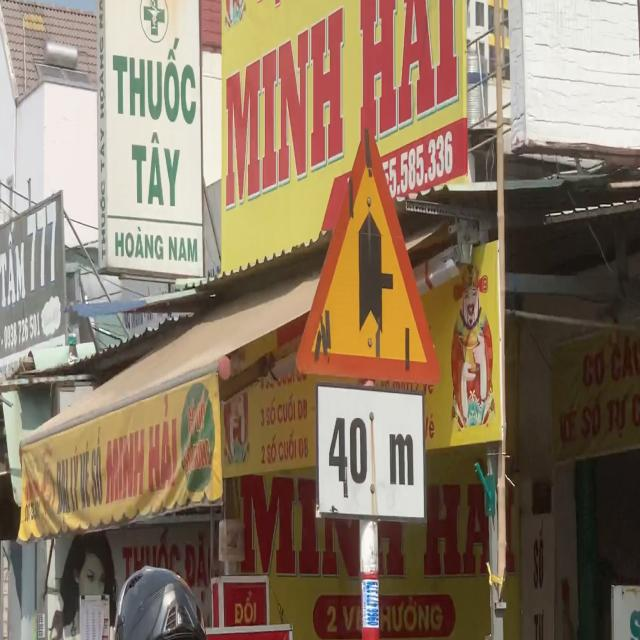Giao voi duong khong uu tien: (294, 120, 441, 385)
